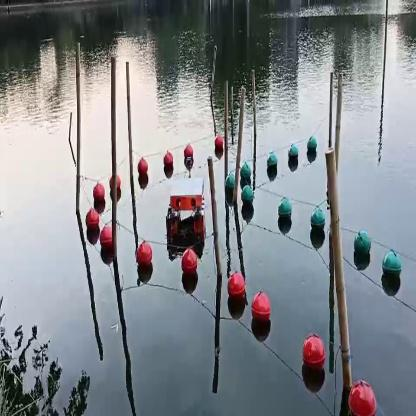green_buoy: (382, 245, 400, 298), (309, 204, 328, 240), (353, 228, 370, 268), (278, 198, 293, 233), (242, 184, 254, 210), (266, 150, 278, 174), (308, 132, 318, 156), (288, 144, 298, 166), (228, 173, 235, 202), (240, 163, 251, 181)
red_buoy: (303, 335, 327, 386), (348, 380, 380, 408), (251, 286, 272, 328), (227, 272, 247, 306), (136, 238, 154, 268), (182, 246, 196, 278), (96, 228, 110, 256), (95, 178, 107, 209), (136, 159, 151, 182), (86, 204, 98, 232), (164, 152, 174, 176), (185, 146, 194, 164), (214, 138, 222, 158)
